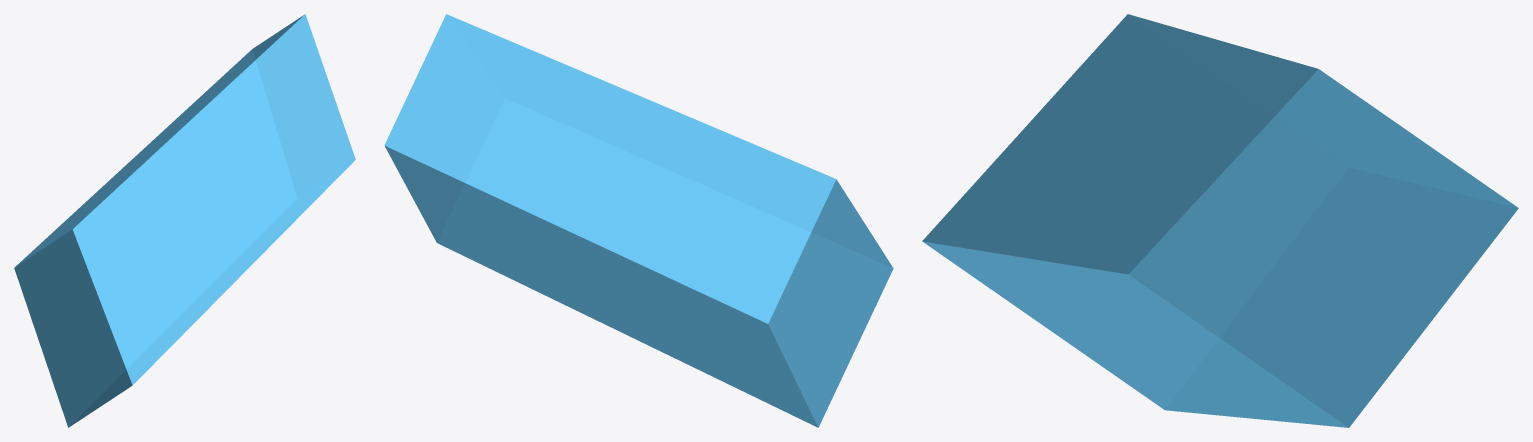
File: Event_421115418_HErechit_1.fbx
3 renders of one model, left to right at view 1: azimuth 30°, elevation 25°; view 2: azimuth 150°, elevation 25°; view 3: azimuth 270°, elevation 25°, orthographic. The views are drawn at different scales.
Parts seen in each view (by area): view 1: Model; view 2: Model; view 3: Model.
Boxes of the visible parts, x1,y1,x2,y2 form: Model: [14, 14, 355, 427]; Model: [384, 14, 893, 427]; Model: [922, 14, 1518, 427].
Size of the model in its own units: 1.07 by 1.14 by 1.03.
